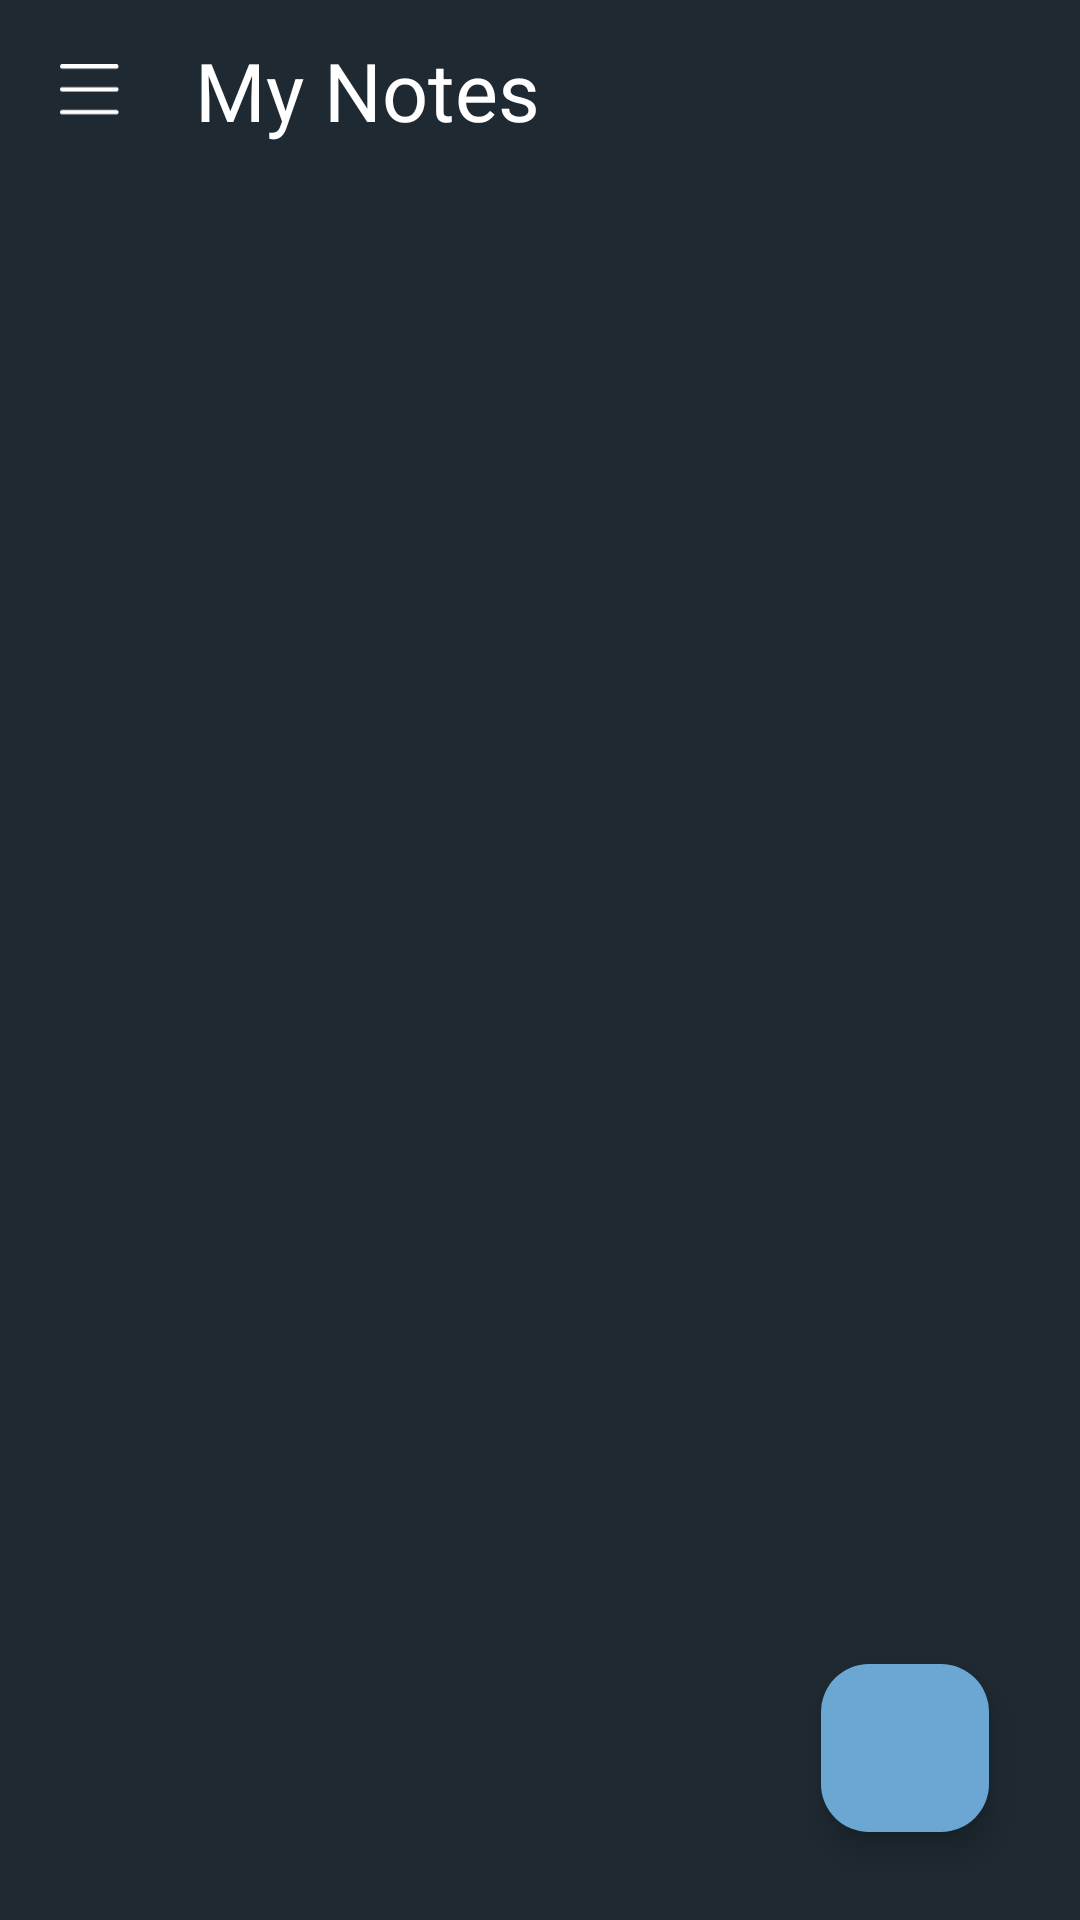

Screen size 1080px x 1920px. Icon name, then its center in pixels as point (x, y):
Menu button: point (89, 89)
